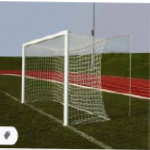goals: (18, 29, 111, 126)
